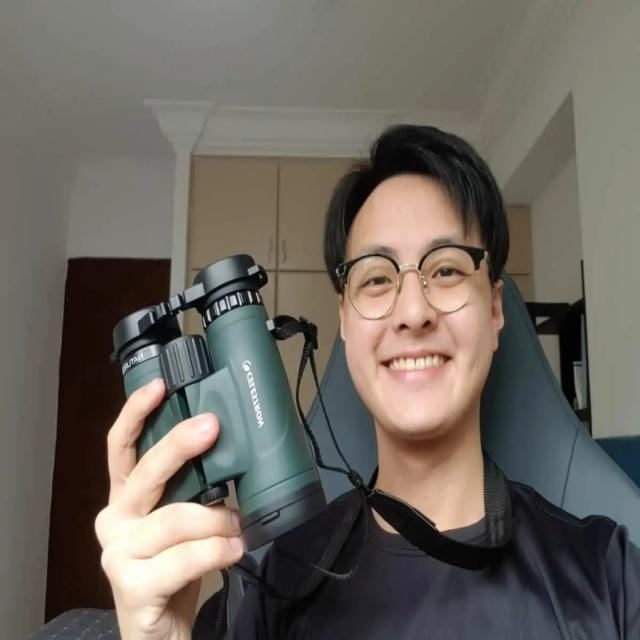Binocular: (106, 246, 333, 557)
